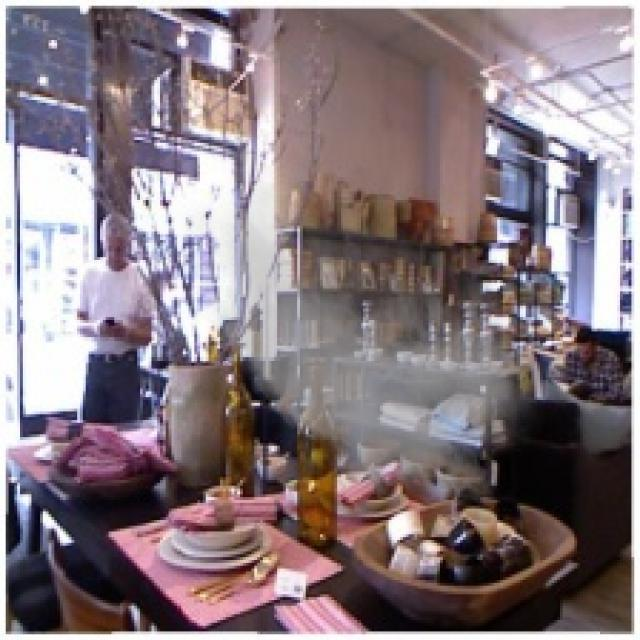Smoke: (172, 125, 557, 518)
